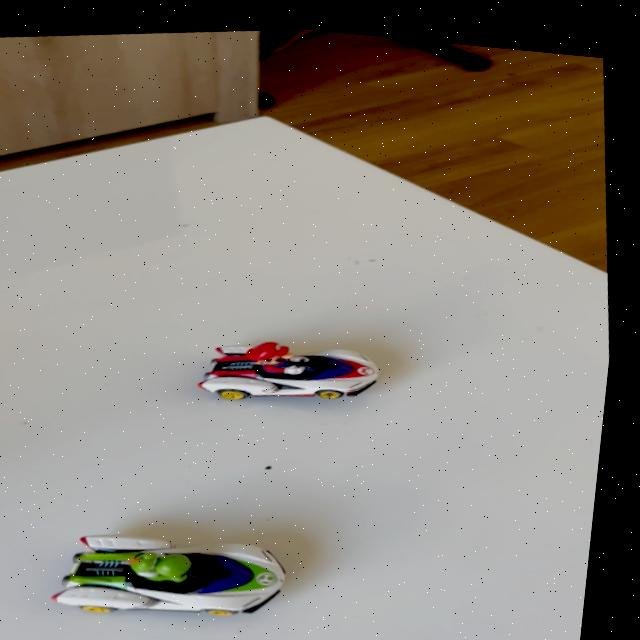mario: (185, 303, 416, 423)
yoshi: (38, 488, 329, 640)
